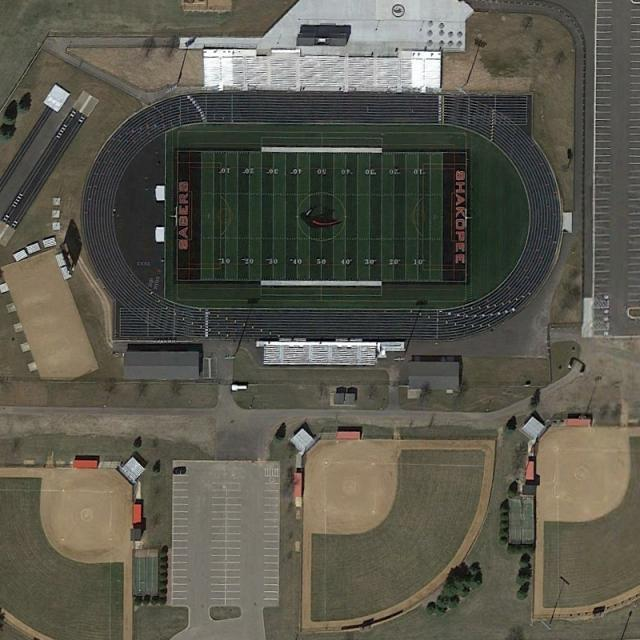vehicle: (173, 466, 186, 474)
